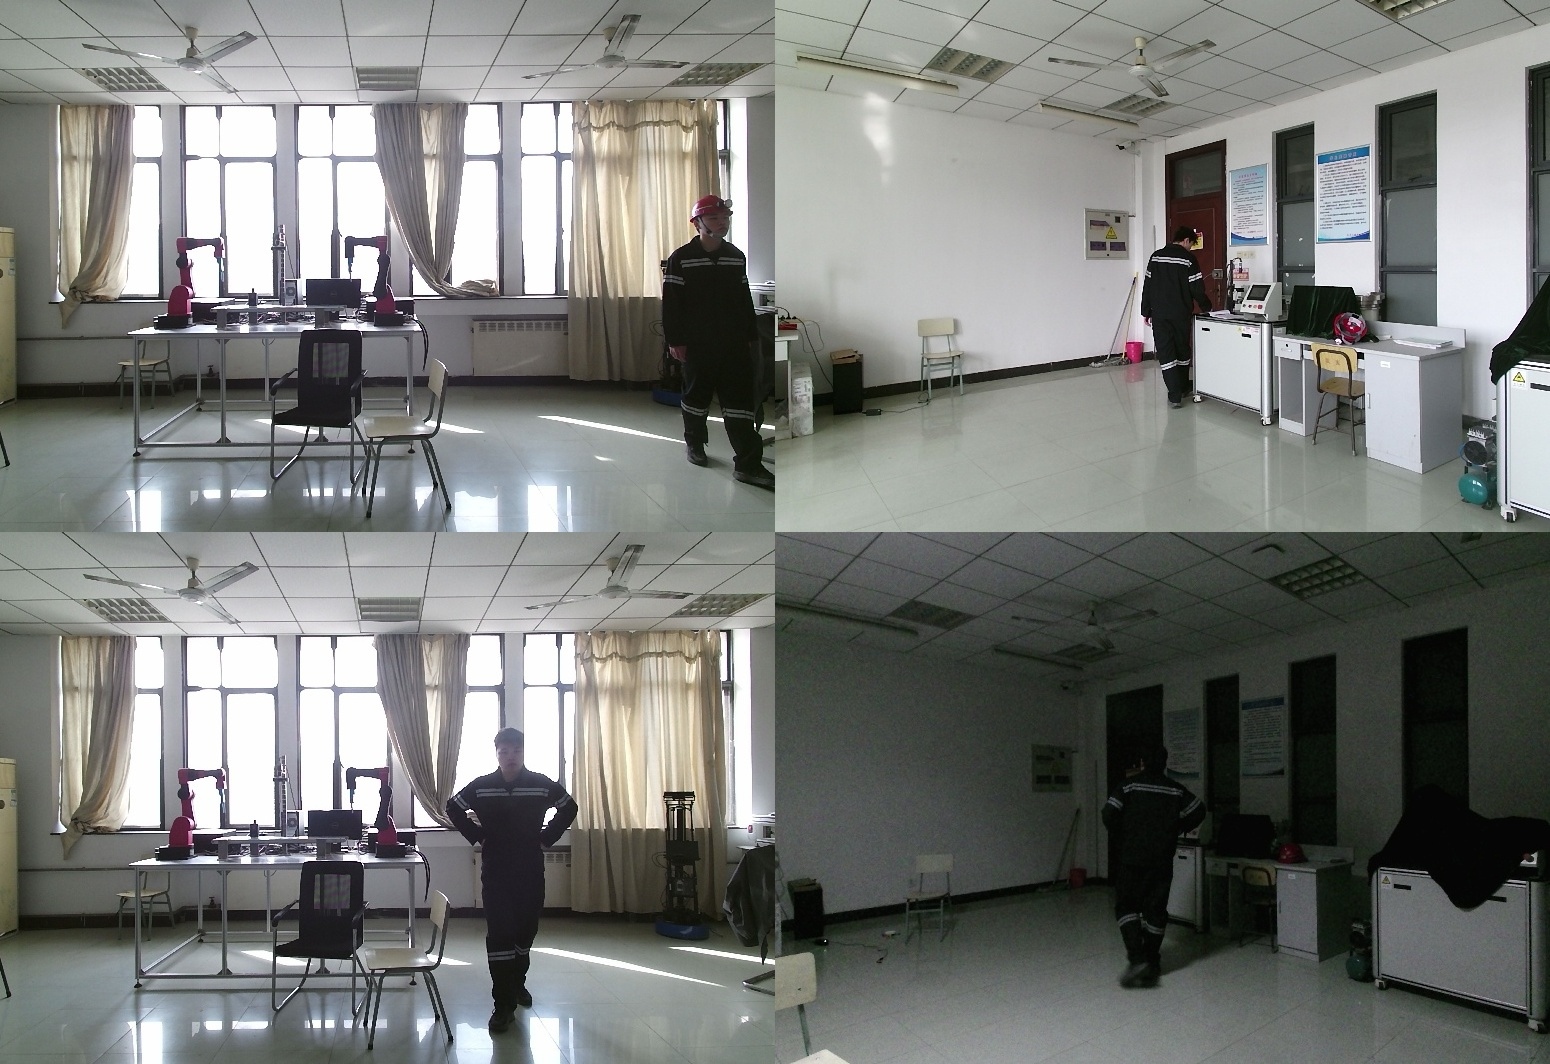person: (448, 729, 589, 1030), (662, 196, 775, 489), (1105, 742, 1213, 995), (1142, 233, 1220, 418)
